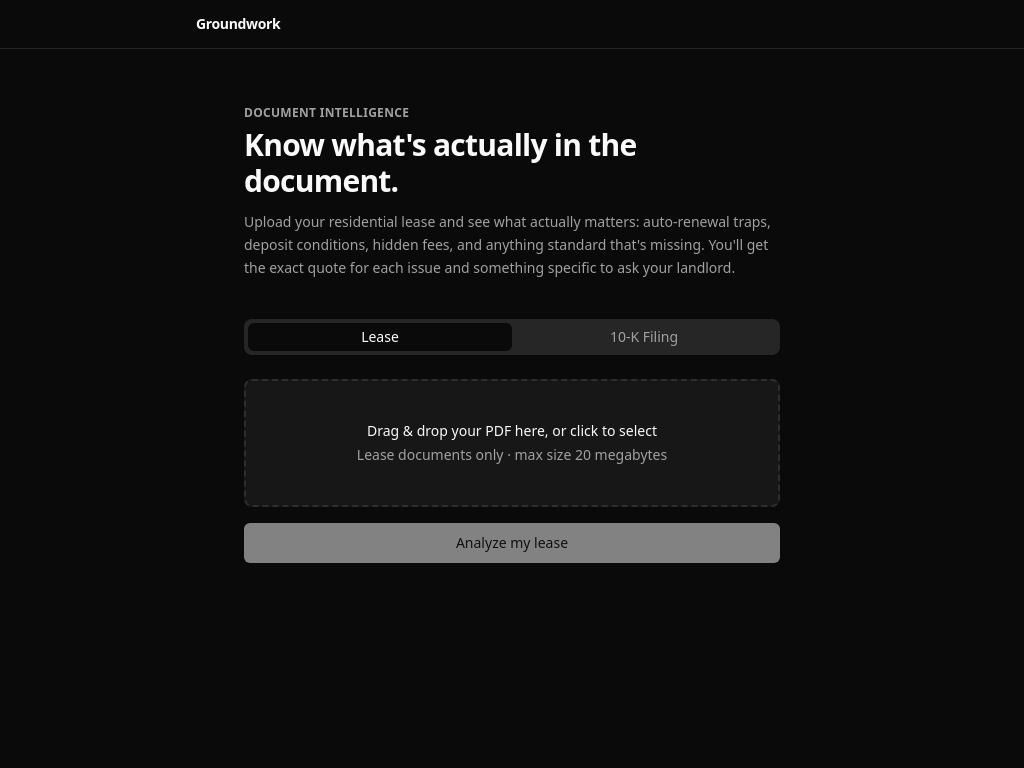
Scenario: selecting 10-K Filing switches subheading and caption copy
The image size is (1024, 768).
Click the tab "10-K Filing" at (644, 337), box [512,323,776,351]
(page scrolled)
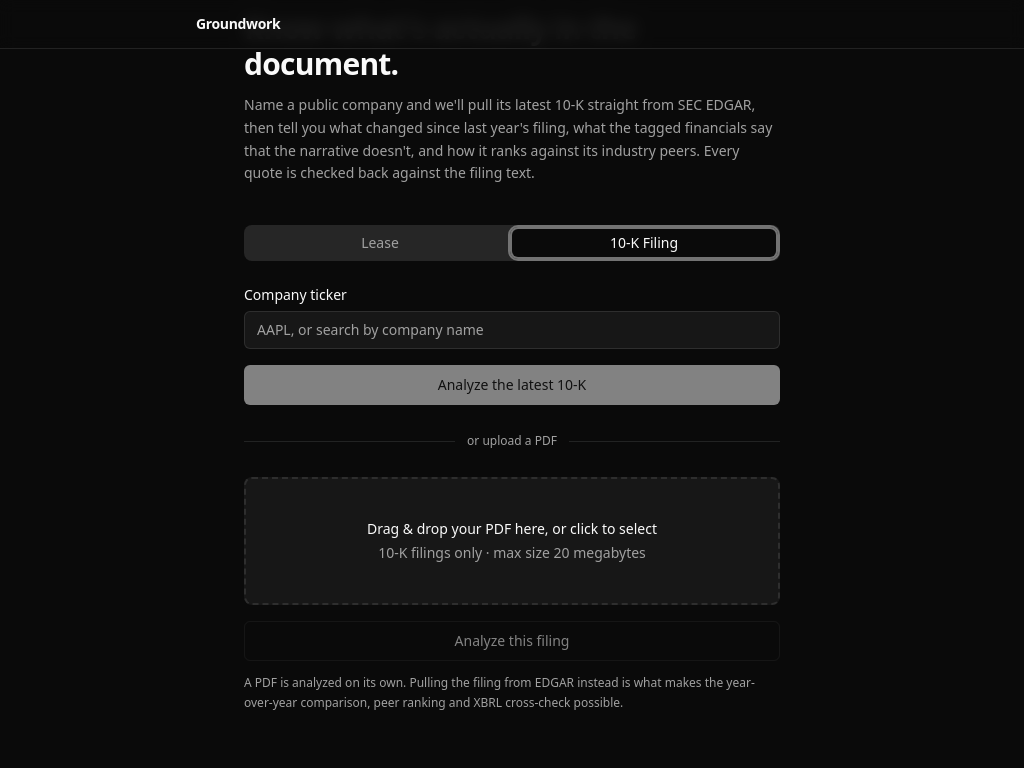
Check: the text "pull its latest 10-K straight from SEC EDGAR" is shown, box [244,95,772,182]
Check: the text "10-K filings only · max size 20 megabytes" is shown, box [378,543,646,562]
Check: the button "Analyze this filing" is shown, box [244,621,780,661]
